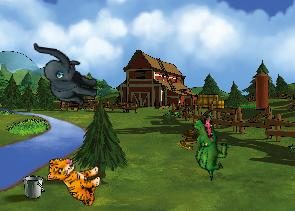crocodile: (178, 112, 239, 181)
elephant: (26, 42, 103, 107)
tiger: (44, 155, 103, 206)
